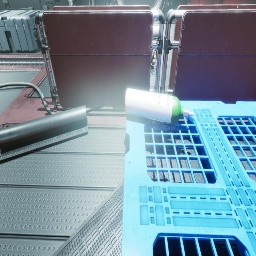0: (125, 88, 195, 124), (153, 26, 159, 38)
NitrogenTank ,: (151, 49, 157, 65)
